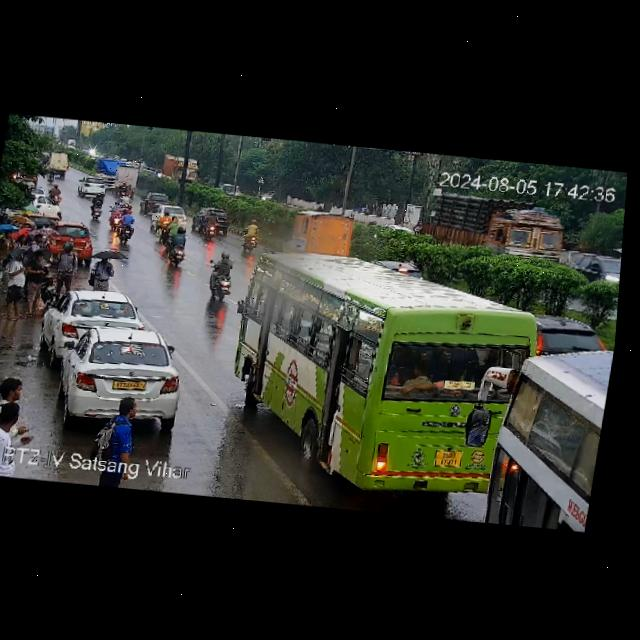bus: (212, 244, 556, 498), (452, 317, 616, 532)
car: (52, 323, 190, 426), (45, 285, 141, 352), (569, 250, 622, 289), (48, 220, 96, 260), (148, 202, 190, 231), (192, 206, 231, 233), (27, 193, 65, 220), (74, 174, 110, 197), (155, 211, 169, 243)
motorcycle: (202, 251, 237, 300), (160, 226, 191, 266), (112, 209, 138, 243), (200, 212, 225, 241), (241, 218, 260, 250), (106, 200, 124, 230), (164, 214, 181, 243), (88, 193, 104, 219), (47, 183, 63, 201), (119, 192, 135, 210), (47, 167, 56, 184), (126, 184, 135, 199), (118, 181, 127, 196)
person: (94, 393, 145, 460), (0, 251, 33, 321), (38, 243, 83, 292), (19, 252, 50, 319), (0, 398, 34, 447), (83, 252, 117, 293), (0, 376, 27, 418), (0, 229, 12, 257), (30, 235, 45, 252)
truck: (406, 193, 566, 262), (285, 208, 357, 257), (161, 153, 200, 183), (92, 157, 122, 186), (112, 164, 140, 195), (47, 148, 71, 178)
